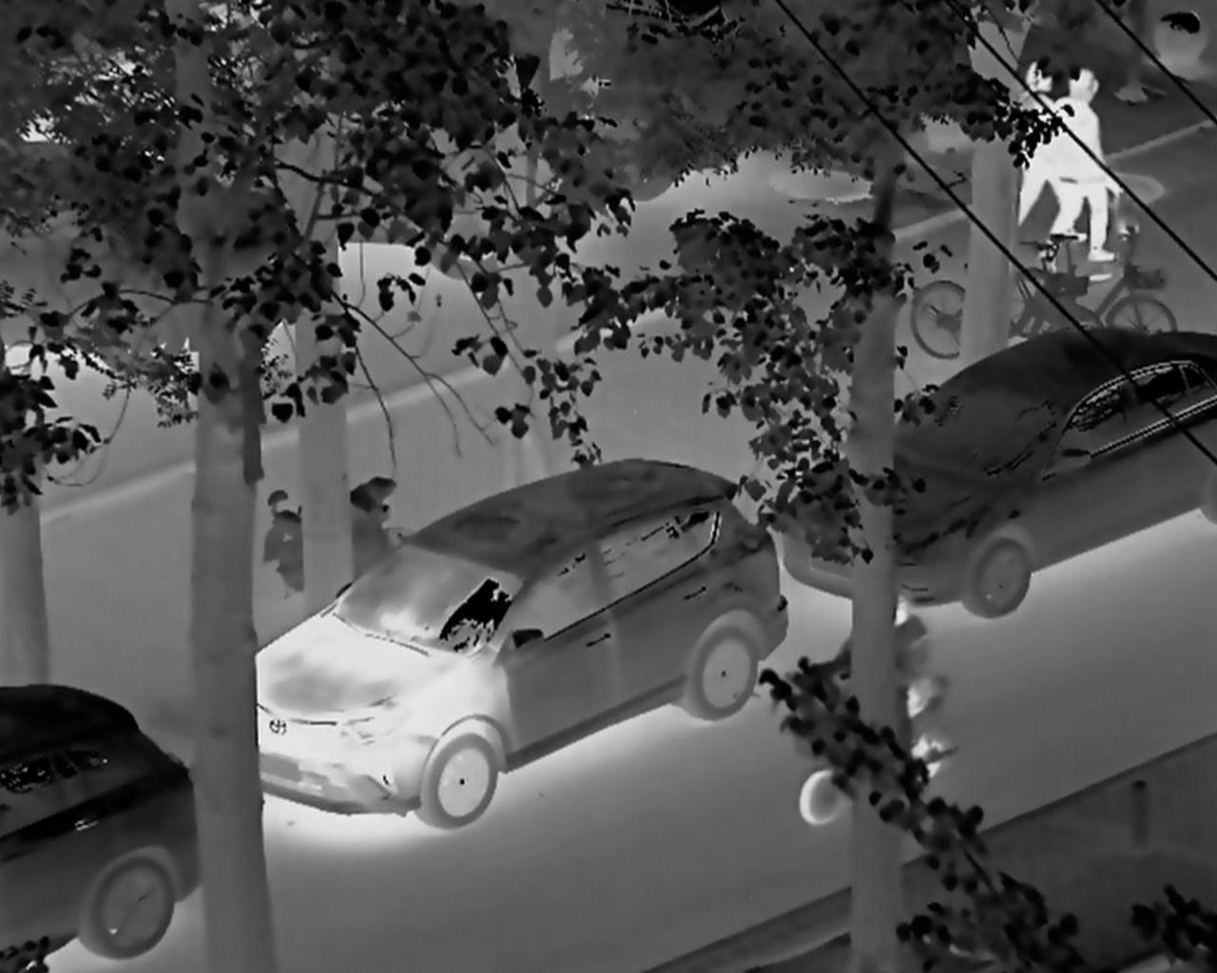person: (1046, 51, 1130, 279), (824, 589, 934, 756), (1014, 56, 1077, 284)
